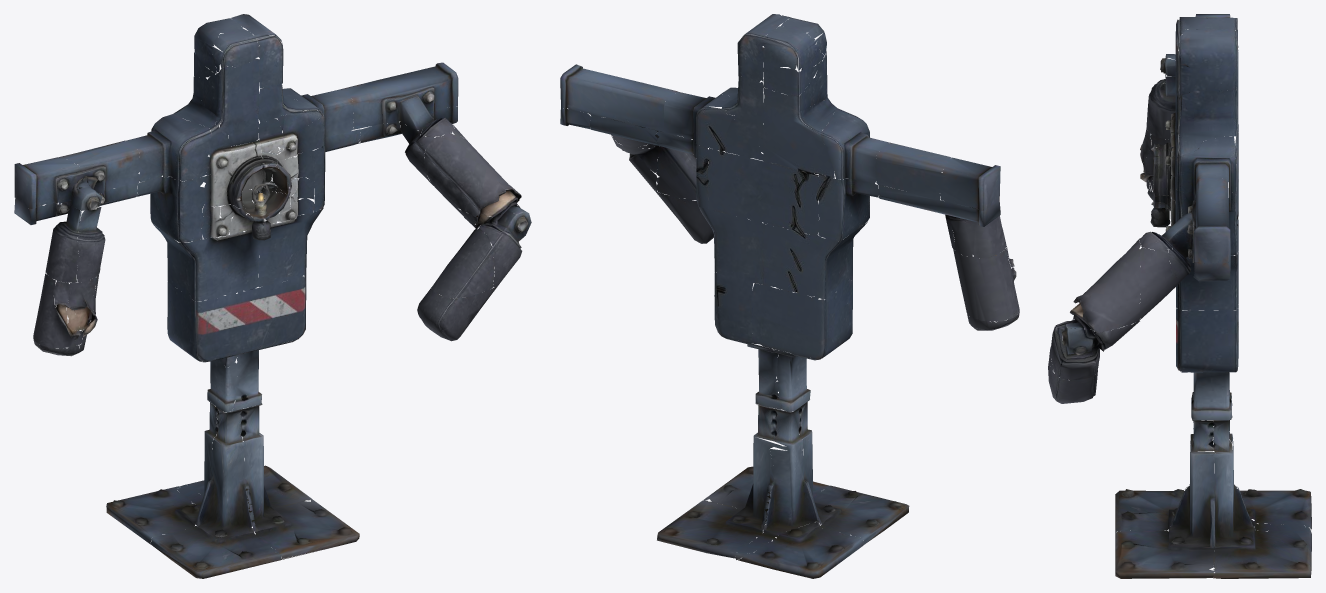
The model's file is dummy_c.glb.
The picture shows the model from 3 angles, left to right: view 1: azimuth 30°, elevation 25°; view 2: azimuth 150°, elevation 25°; view 3: azimuth 270°, elevation 25°; orthographic projection. The views are drawn at different scales.
Parts seen in each view (by area): view 1: Mesh; view 2: Mesh; view 3: Mesh.
Boxes of the visible parts, x1,y1,x2,y2 form: Mesh: (14, 14, 531, 578); Mesh: (560, 14, 1019, 578); Mesh: (1048, 14, 1311, 578).
Bounding box in the file's own units: 1.68 × 1.8 × 0.84.
Materials: 1 (1 with a texture image).
